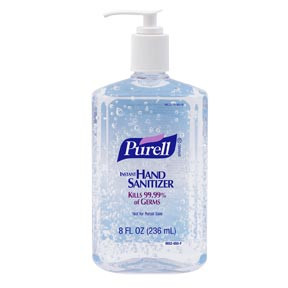Sanitizer: (89, 7, 211, 276)
